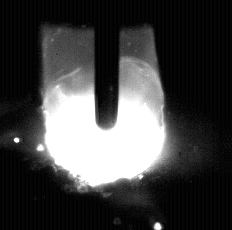arame: (95, 0, 119, 132)
poca: (42, 0, 168, 230)
